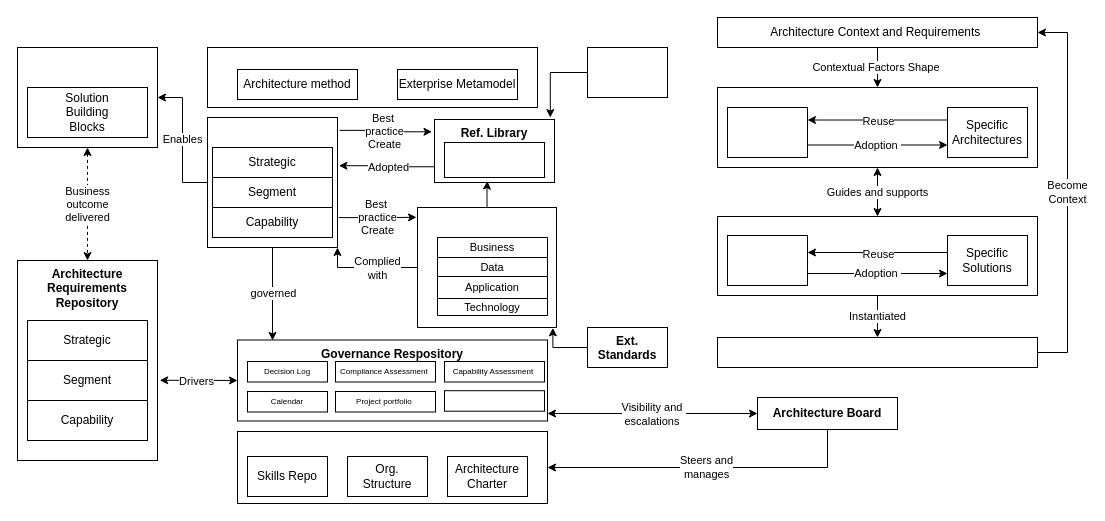
Some shapes in this 1105 by 521 pixel diagram are drawn without their labels. Here are the shapes that lost their labels. From the top down, the box of each, then its label:
(206, 46, 538, 108): Architecture Metamodal
(586, 46, 668, 98): Ext. Reference Models
(16, 46, 158, 148): Solutions Landscape
(726, 106, 808, 158): Generic Architectures
(716, 86, 1038, 168): Architecture Continuum
(444, 142, 544, 178): Organization Ref. Materials
(206, 116, 338, 248): Arch. Landscape
(416, 206, 556, 328): Standards Library
(726, 234, 808, 286): Generic Solutions
(716, 216, 1038, 296): Solutions Continuum
(716, 336, 1038, 368): Deployed Solutions
(444, 390, 544, 411): Performance measurement
(236, 430, 548, 504): Architecture Capability
